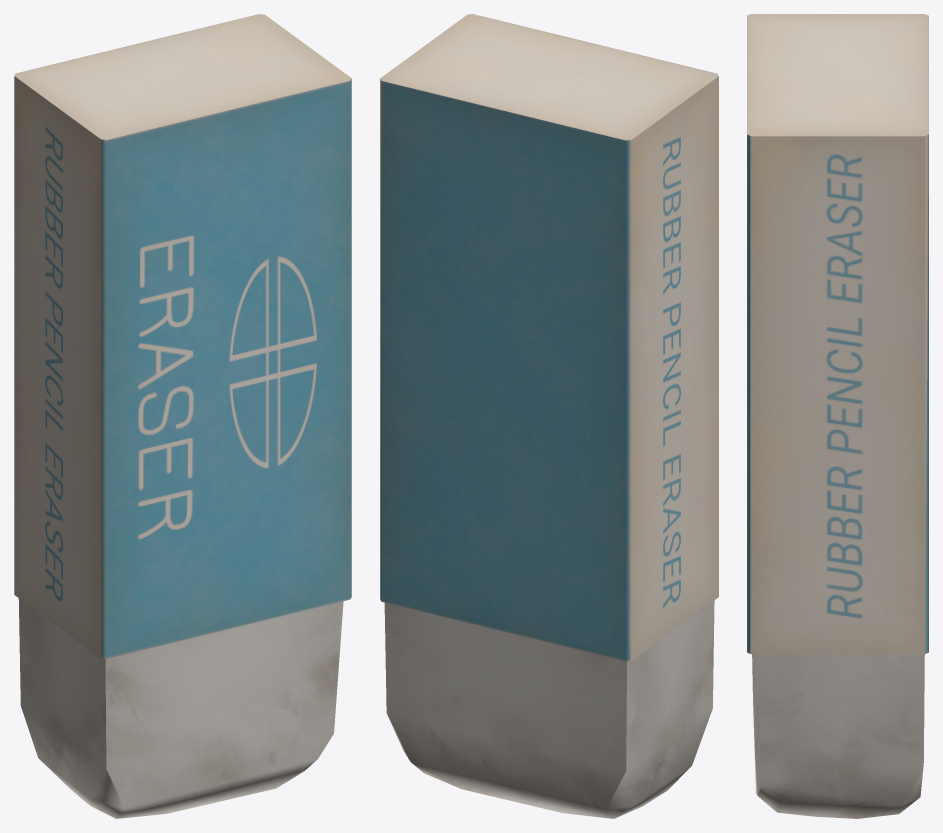
The model's file is Mesh_Eraser.fbx.
The picture shows the model from 3 angles, left to right: view 1: azimuth 30°, elevation 25°; view 2: azimuth 150°, elevation 25°; view 3: azimuth 270°, elevation 25°; orthographic projection.
Visible parts, largest first — view 1: Mesh_Eraser_LOD0; view 2: Mesh_Eraser_LOD0; view 3: Mesh_Eraser_LOD0.
Boxes of the visible parts, bbox=[...] form: Mesh_Eraser_LOD0: bbox=[14, 14, 351, 818]; Mesh_Eraser_LOD0: bbox=[380, 14, 718, 818]; Mesh_Eraser_LOD0: bbox=[747, 14, 928, 818].
Size of what is drawn, in the model's own units: 0.0353 by 0.0932 by 0.0222.
